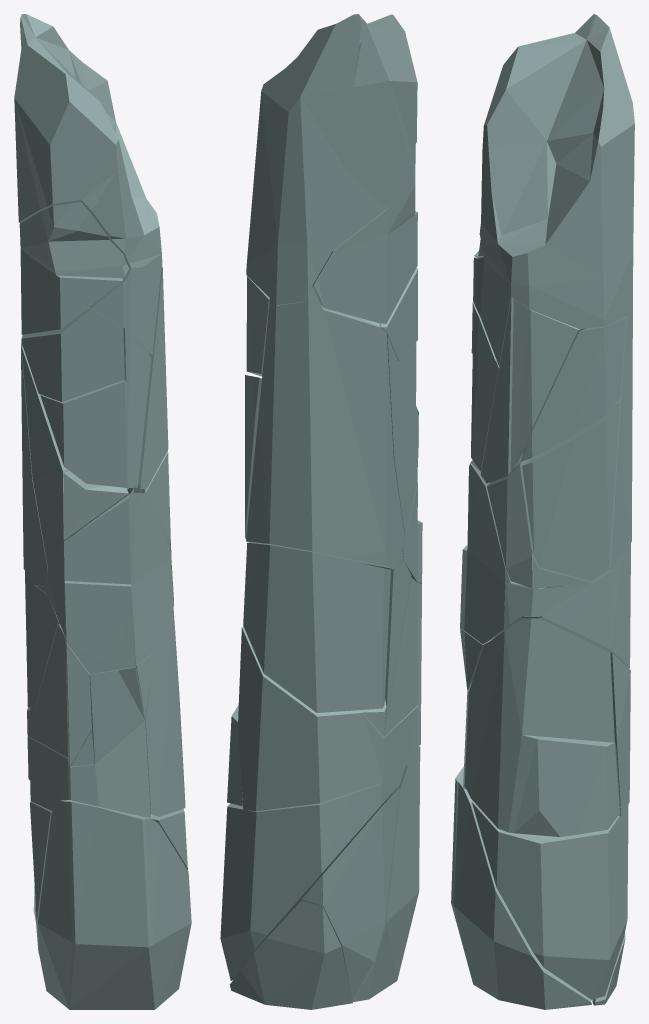
The model's file is New_Enemy_Broken_Crystal.fbx.
3 renders of one model, left to right at view 1: azimuth 30°, elevation 25°; view 2: azimuth 150°, elevation 25°; view 3: azimuth 270°, elevation 25°, orthographic. The views are drawn at different scales.
Visible parts, largest first — view 1: Broken_Crystal_piece30, Broken_Crystal_piece1, Broken_Crystal_piece22, Broken_Crystal_piece26, polySurface4, Broken_Crystal_piece25, polySurface8, Broken_Crystal_piece10, Broken_Crystal_piece, Broken_Crystal_piece6, Broken_Crystal_piece11, Broken_Crystal_piece7 (+13 smaller); view 2: Broken_Crystal_piece15, Broken_Crystal_piece22, Broken_Crystal_piece21, Broken_Crystal_piece9, Broken_Crystal_piece29, Broken_Crystal_piece25, Broken_Crystal_piece26, Broken_Crystal_piece31, Broken_Crystal_piece8, Broken_Crystal_piece30, Broken_Crystal_piece11, Broken_Crystal_piece (+8 smaller); view 3: Broken_Crystal_piece22, Broken_Crystal_piece10, Broken_Crystal_piece29, polySurface5, Broken_Crystal_piece30, polySurface6, Broken_Crystal_piece12, Broken_Crystal_piece1, Broken_Crystal_piece21, Broken_Crystal_piece15, Broken_Crystal_piece17, Broken_Crystal_piece19 (+8 smaller).
Boxes of the visible parts, box(x1,y1,x2,y2) form: Broken_Crystal_piece30: box(38, 801, 191, 1009); Broken_Crystal_piece1: box(45, 493, 173, 674); Broken_Crystal_piece22: box(20, 14, 162, 268); Broken_Crystal_piece26: box(19, 202, 129, 334); polySurface4: box(40, 355, 151, 487); Broken_Crystal_piece25: box(14, 25, 81, 223); polySurface8: box(21, 309, 124, 401); Broken_Crystal_piece10: box(145, 607, 185, 816); Broken_Crystal_piece: box(27, 624, 91, 765); Broken_Crystal_piece6: box(70, 720, 150, 817); Broken_Crystal_piece11: box(21, 346, 133, 570); Broken_Crystal_piece7: box(80, 666, 144, 763); Broken_Crystal_piece15: box(246, 297, 404, 568); Broken_Crystal_piece22: box(246, 14, 404, 305); Broken_Crystal_piece21: box(243, 542, 390, 712); Broken_Crystal_piece9: box(238, 627, 420, 811); Broken_Crystal_piece29: box(220, 766, 405, 980); Broken_Crystal_piece25: box(332, 20, 417, 250); Broken_Crystal_piece26: box(310, 145, 417, 323); Broken_Crystal_piece31: box(230, 900, 352, 1009); Broken_Crystal_piece8: box(322, 788, 399, 1000); Broken_Crystal_piece30: box(352, 746, 420, 1001); Broken_Crystal_piece11: box(387, 335, 418, 534); Broken_Crystal_piece: box(384, 577, 421, 737); Broken_Crystal_piece22: box(479, 14, 634, 328); Broken_Crystal_piece10: box(464, 618, 619, 836); Broken_Crystal_piece29: box(472, 801, 628, 999); polySurface5: box(522, 402, 619, 581); Broken_Crystal_piece30: box(451, 766, 591, 1009); polySurface6: box(522, 318, 625, 461); Broken_Crystal_piece12: box(510, 299, 586, 470); Broken_Crystal_piece1: box(460, 463, 521, 644); Broken_Crystal_piece21: box(517, 543, 630, 668); Broken_Crystal_piece15: box(520, 314, 632, 582); Broken_Crystal_piece17: box(487, 463, 532, 588); Broken_Crystal_piece19: box(480, 297, 513, 483).
Size of the model in its own units: 2135 by 12604 by 2242.
